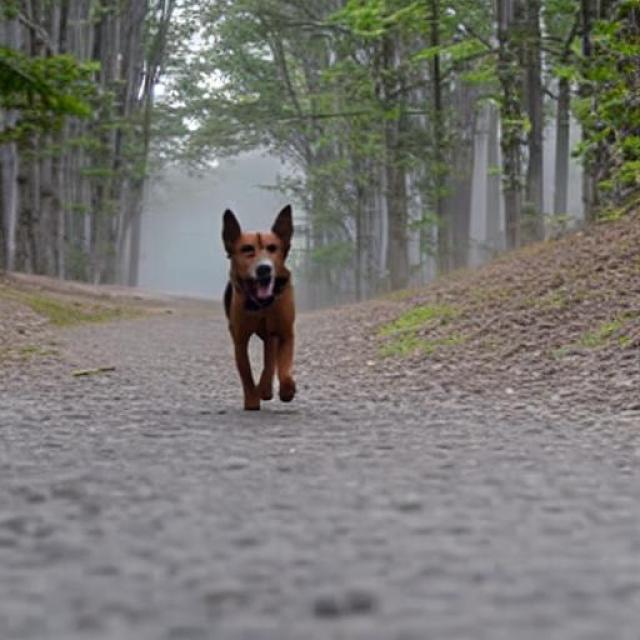Dog: (222, 204, 296, 413)
